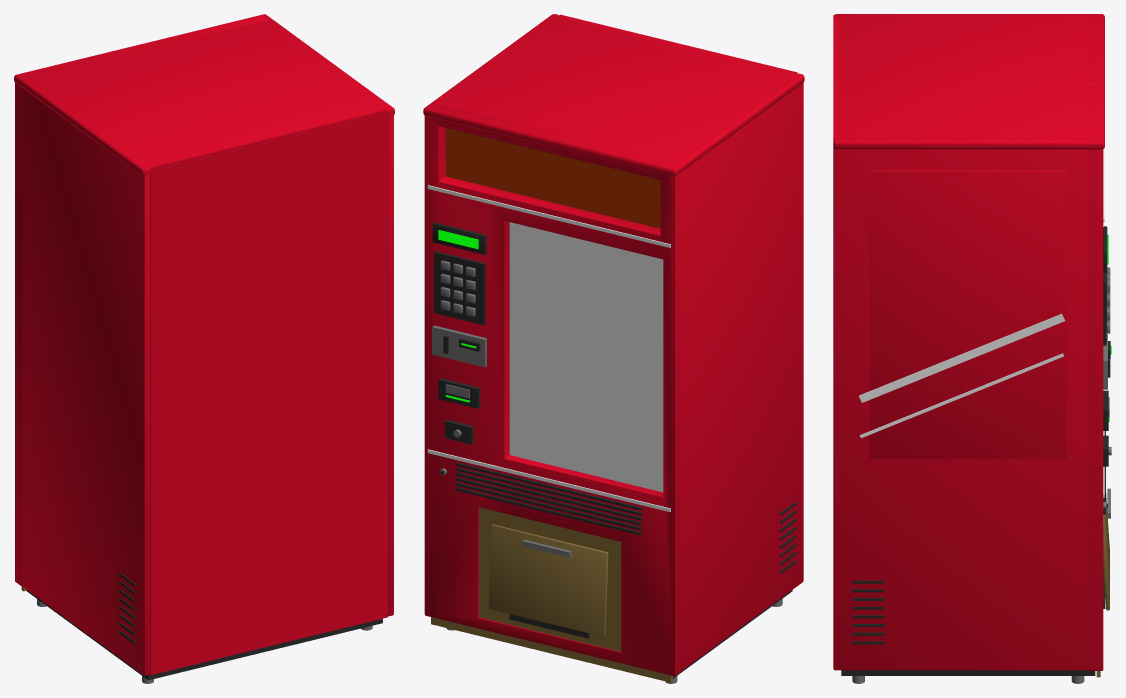
The model's file is mazy-distributeur.glb.
3 views of the same model, side by side, from view 1: azimuth 30°, elevation 25°; view 2: azimuth 150°, elevation 25°; view 3: azimuth 270°, elevation 25° (orthographic). The views are drawn at different scales.
Parts seen in each view (by area): view 1: Distributeur; view 2: Distributeur; view 3: Distributeur.
Part boxes in pixels (<box>): Distributeur: <box>14,14,394,683</box>; Distributeur: <box>423,14,804,683</box>; Distributeur: <box>833,14,1111,683</box>.
Bounding box in the file's own units: 0.965 × 1.9 × 0.876.
